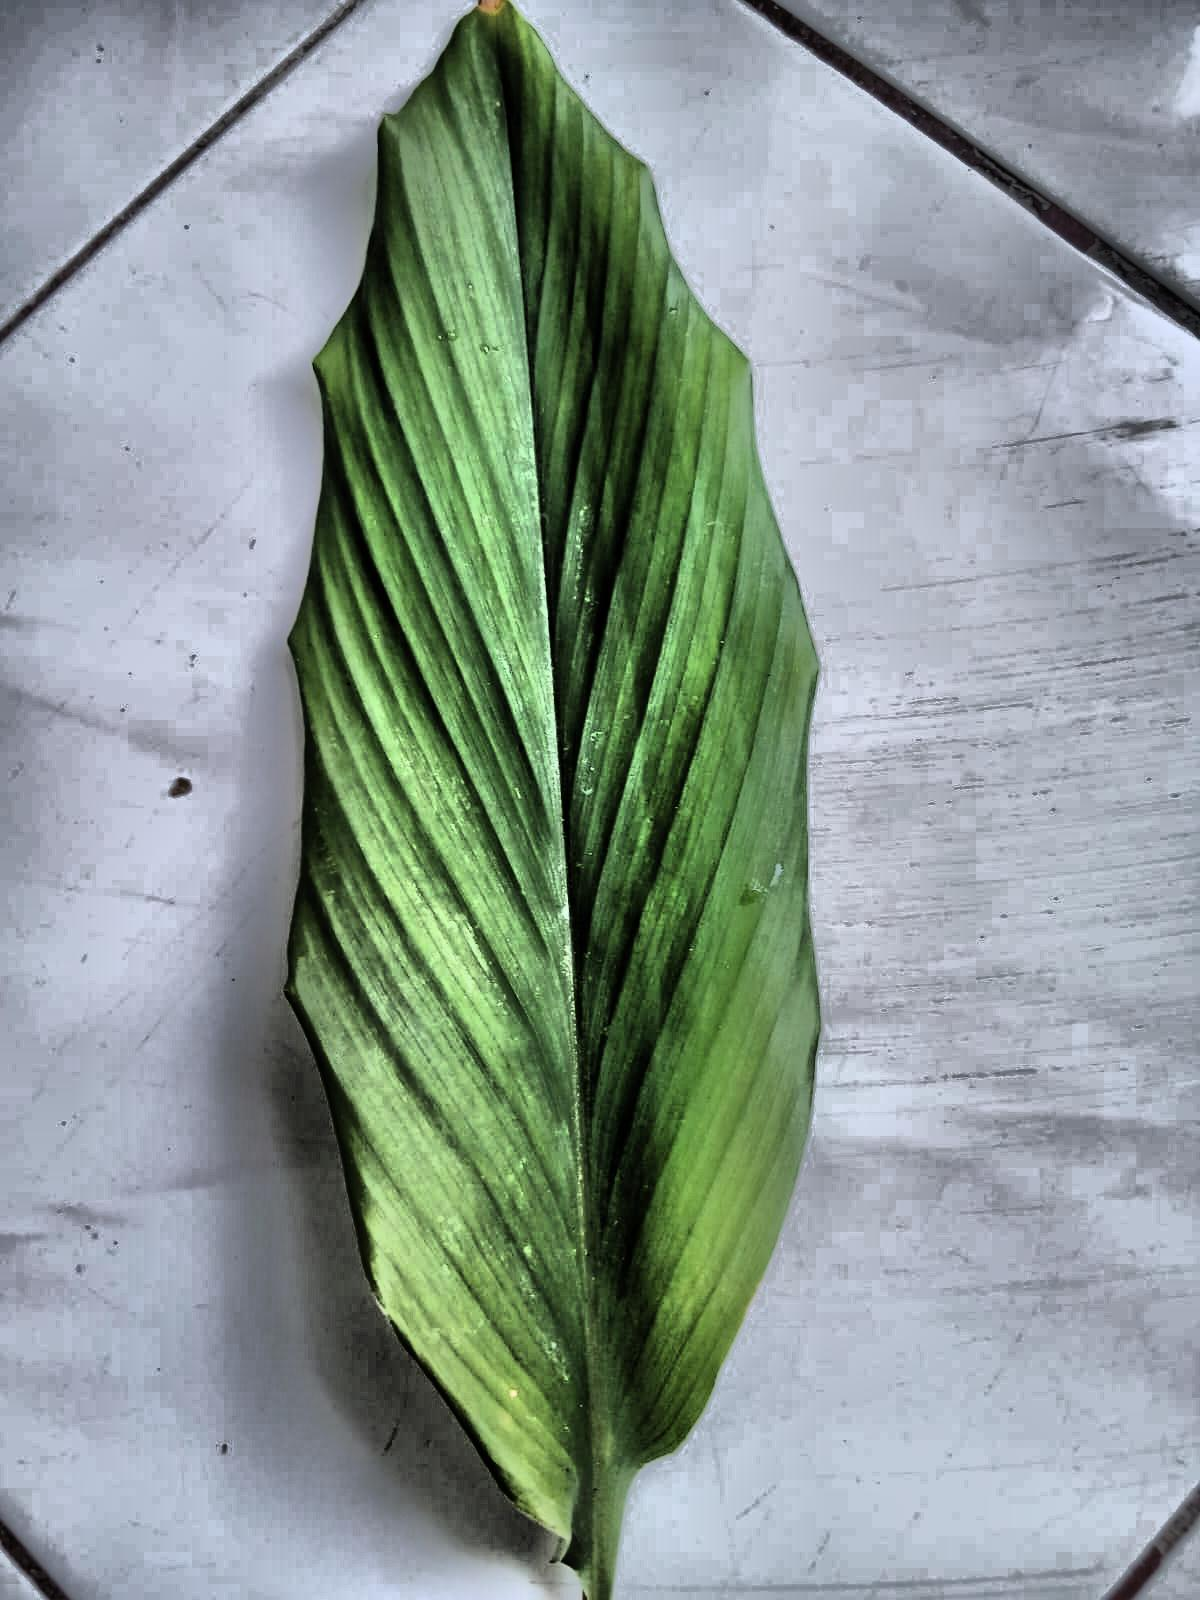daun kunyit: (287, 0, 821, 1599)
